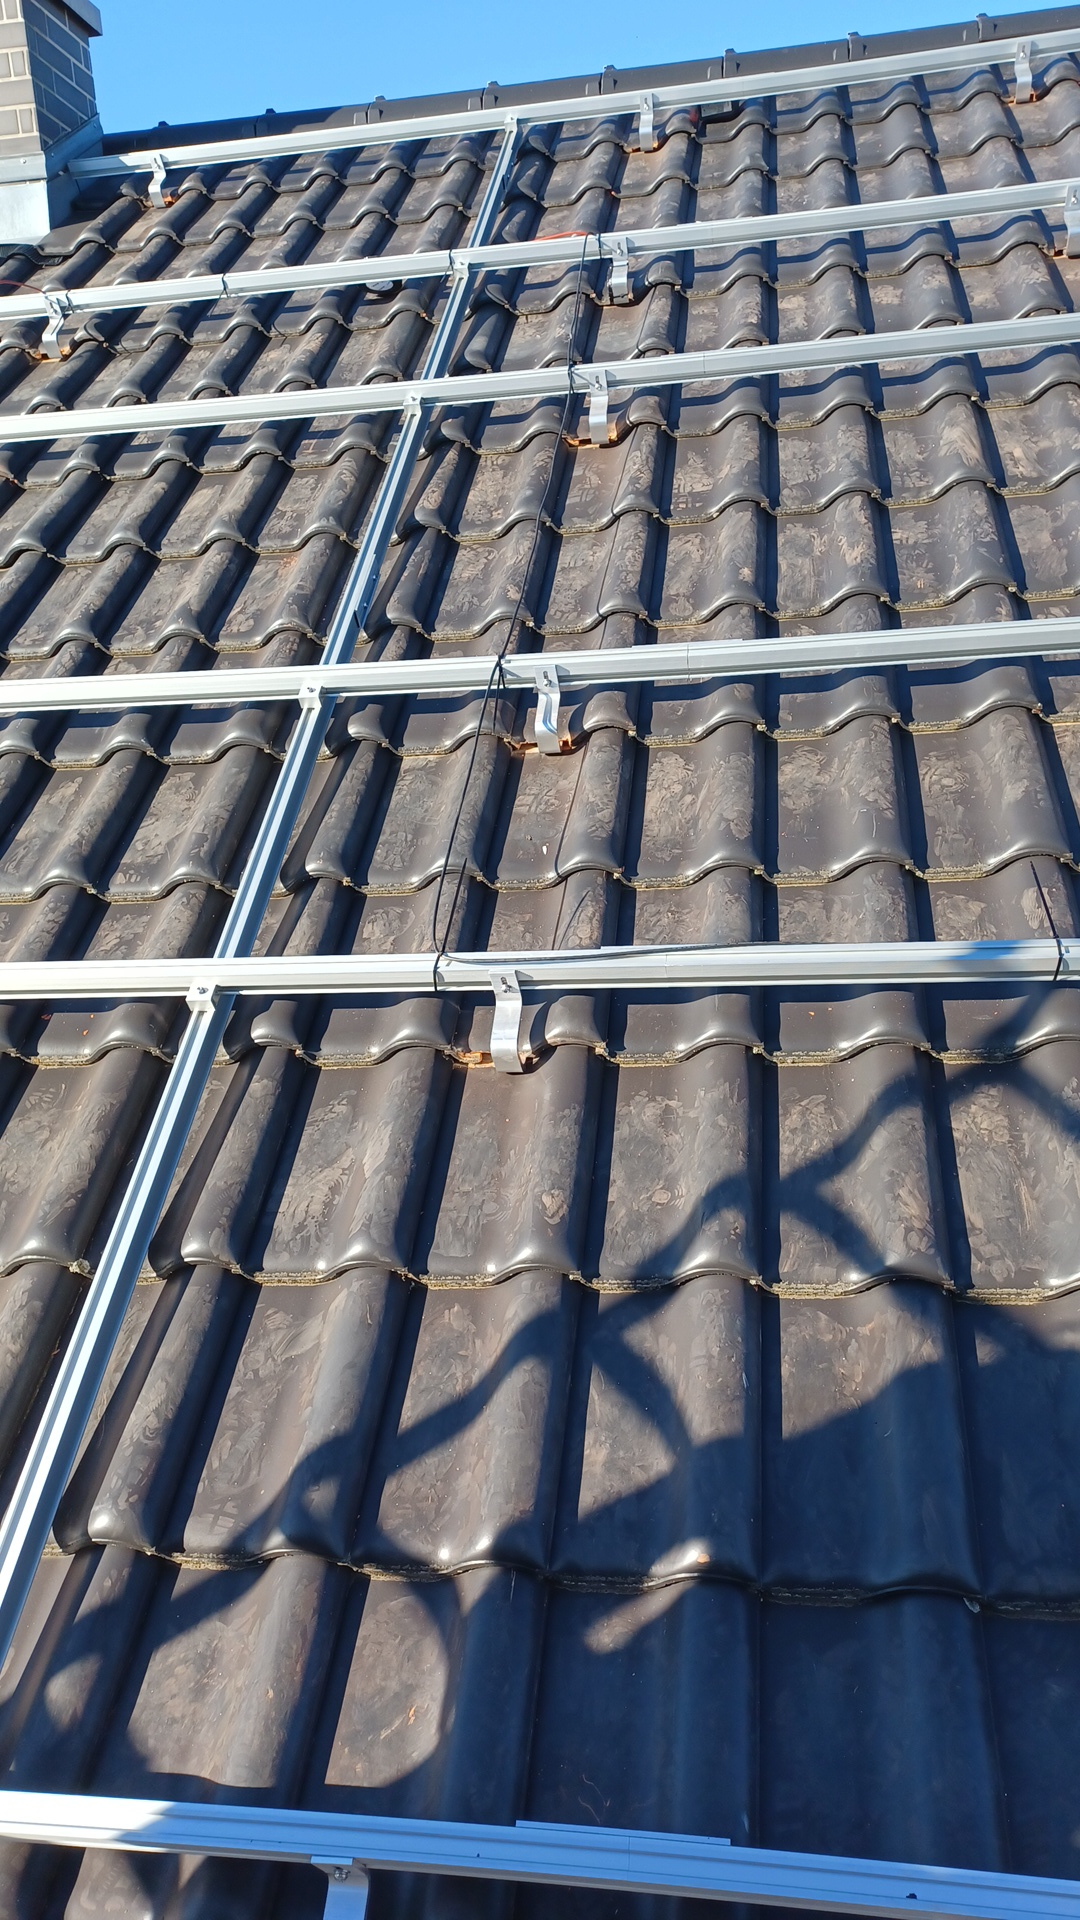hook: (488, 969, 526, 1073), (311, 1855, 372, 1920), (535, 665, 560, 753), (41, 295, 65, 357), (588, 369, 608, 443), (1062, 183, 1080, 256), (611, 236, 629, 305), (146, 152, 167, 208), (1014, 40, 1033, 103), (640, 92, 654, 152)
